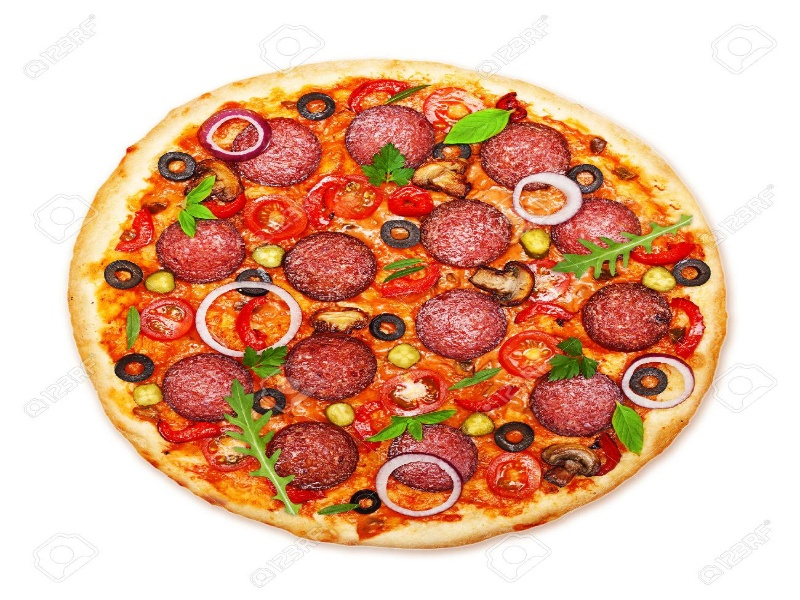olive noir: (483, 414, 538, 460), (104, 345, 165, 384), (666, 250, 718, 290), (342, 479, 394, 516), (561, 157, 609, 196), (366, 303, 408, 346), (98, 256, 151, 289), (159, 144, 199, 186), (288, 89, 341, 119)
pepperonis: (409, 186, 518, 272), (402, 282, 518, 361), (269, 229, 388, 303), (523, 357, 629, 438), (220, 111, 326, 190), (155, 341, 256, 423), (571, 274, 677, 352), (544, 186, 645, 267), (333, 100, 443, 174), (387, 418, 490, 495), (477, 115, 580, 188), (282, 330, 382, 400), (154, 212, 249, 284)
